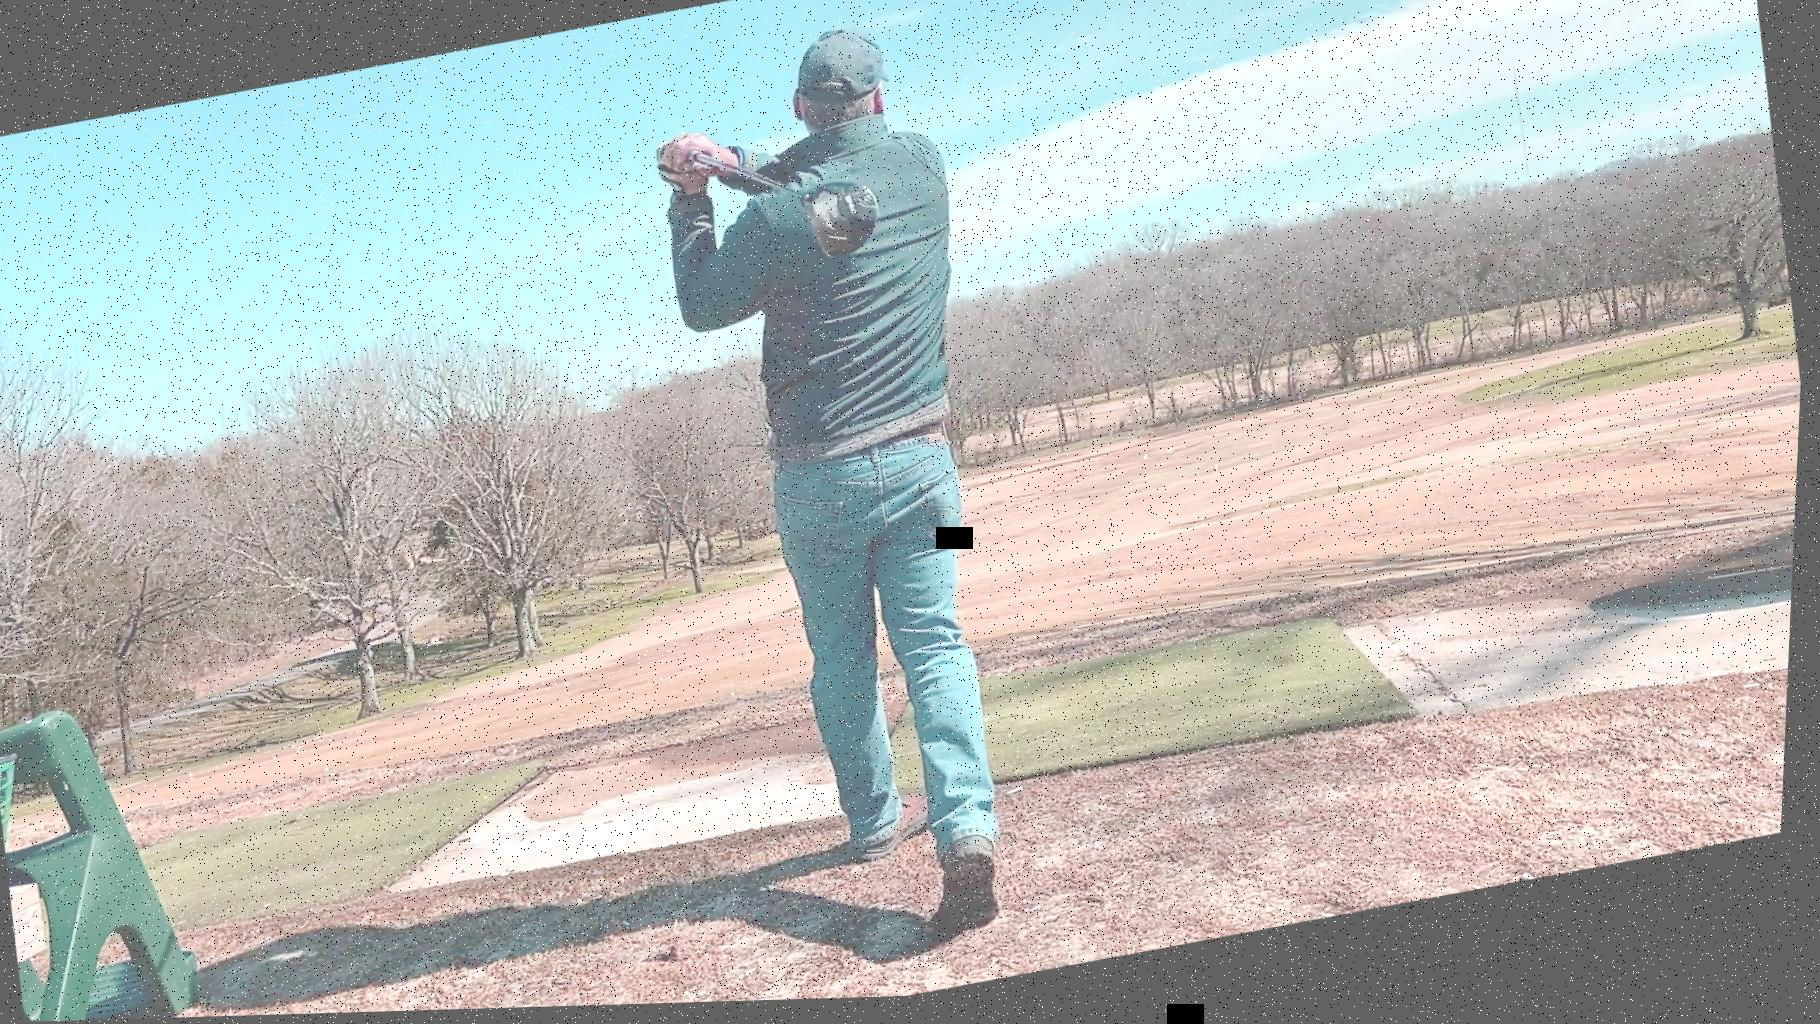ClubHead: (779, 175, 892, 276)
